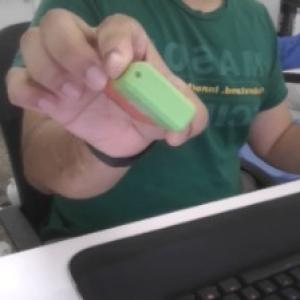Swift-E-Ciggirate: (95, 57, 202, 136)
